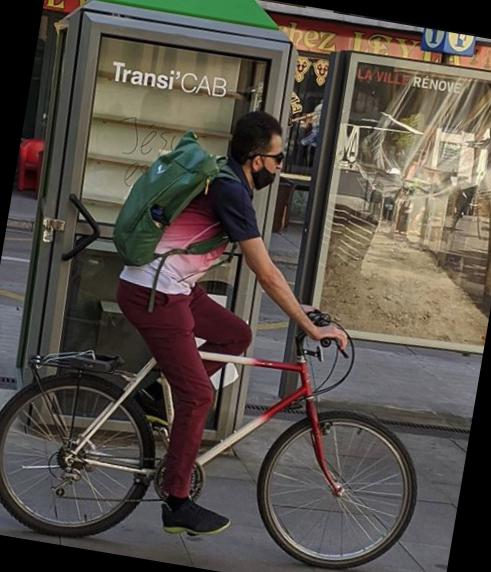mask_weared_incorrect: (247, 135, 297, 194)
